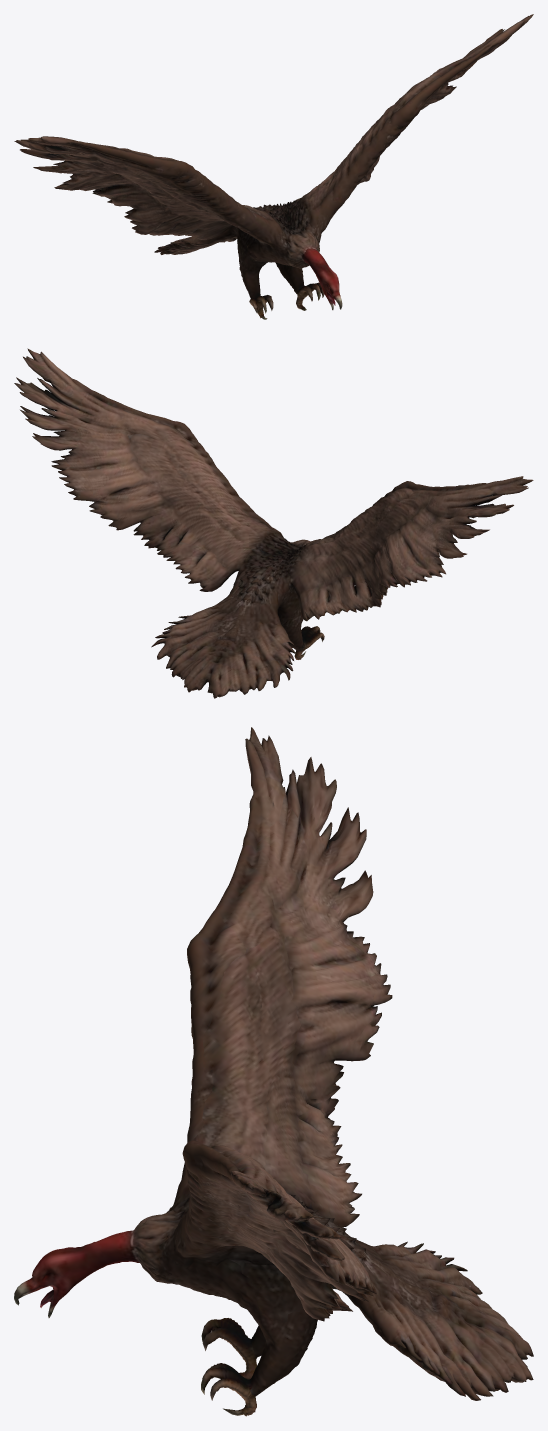
The model's file is MZ4250 - Vulture.glb.
3 views of the same model, one above another, from view 1: azimuth 30°, elevation 25°; view 2: azimuth 150°, elevation 25°; view 3: azimuth 270°, elevation 25° (orthographic). The views are drawn at different scales.
Visible parts, largest first — view 1: Eagel.001; view 2: Eagel.001; view 3: Eagel.001.
Part boxes in pixels (x1,y1,x2,y2): Eagel.001: (14, 14, 533, 319); Eagel.001: (14, 348, 533, 698); Eagel.001: (14, 727, 533, 1416).
Bounding box in the file's own units: 1.68 × 0.7662 × 0.8037.
1 material, 1 textured.
